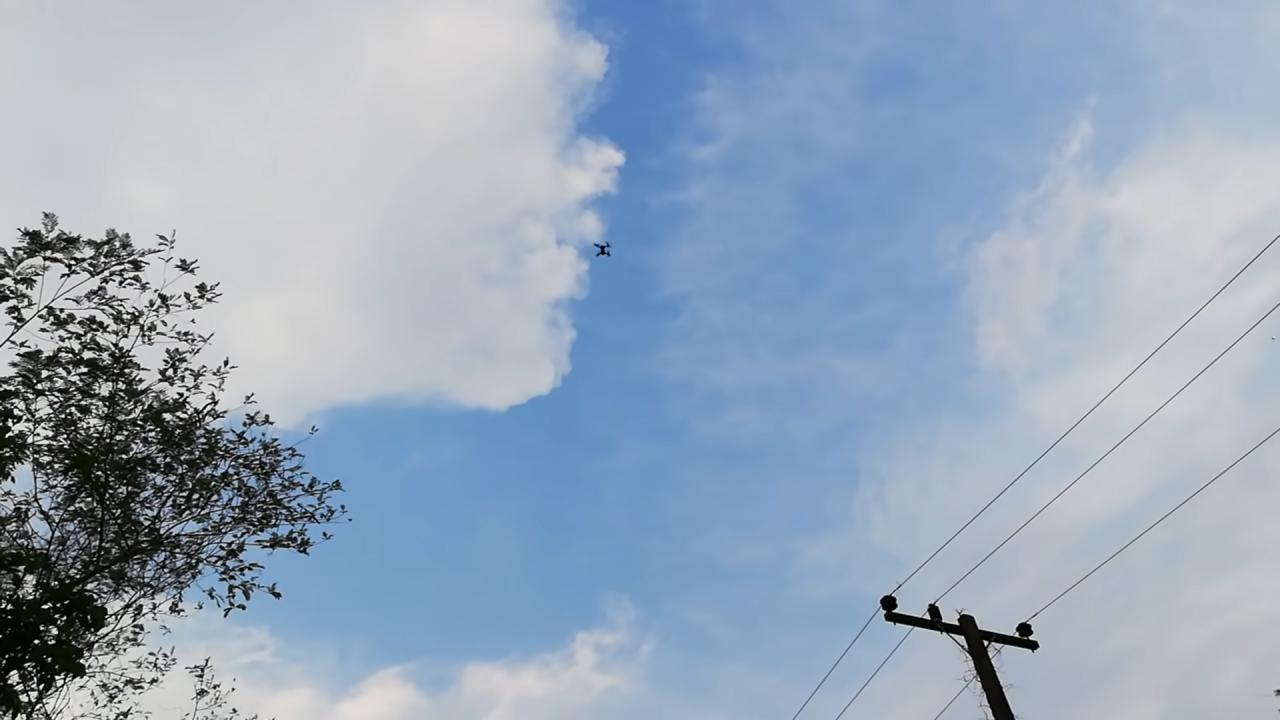Drone: (587, 237, 615, 262)
